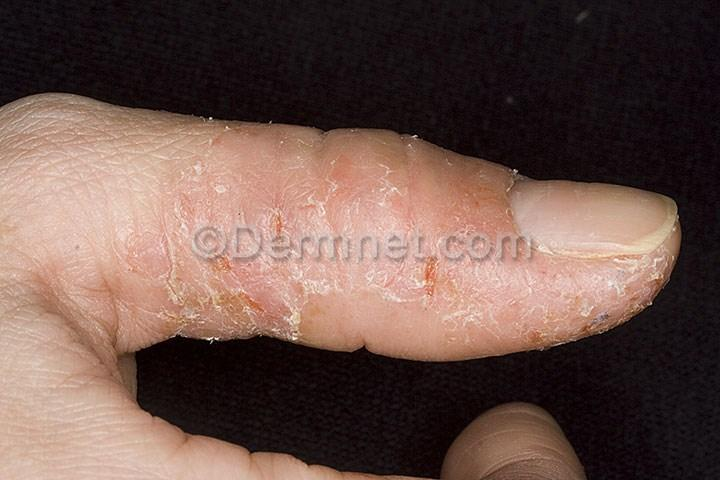Eczema: (132, 226, 331, 362), (405, 240, 509, 320), (548, 279, 660, 334)
